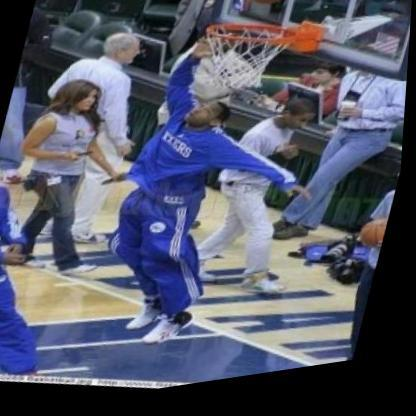basketball: (236, 0, 300, 25)
